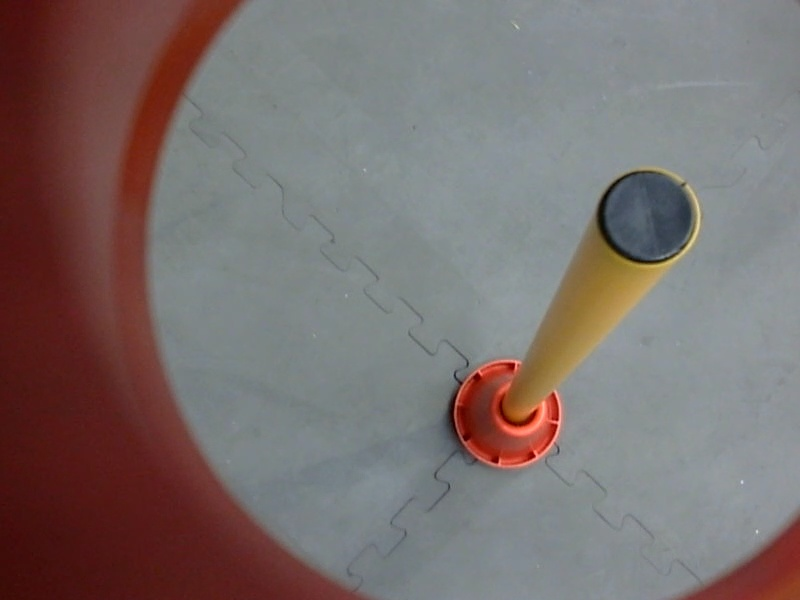tip: (590, 160, 708, 275)
